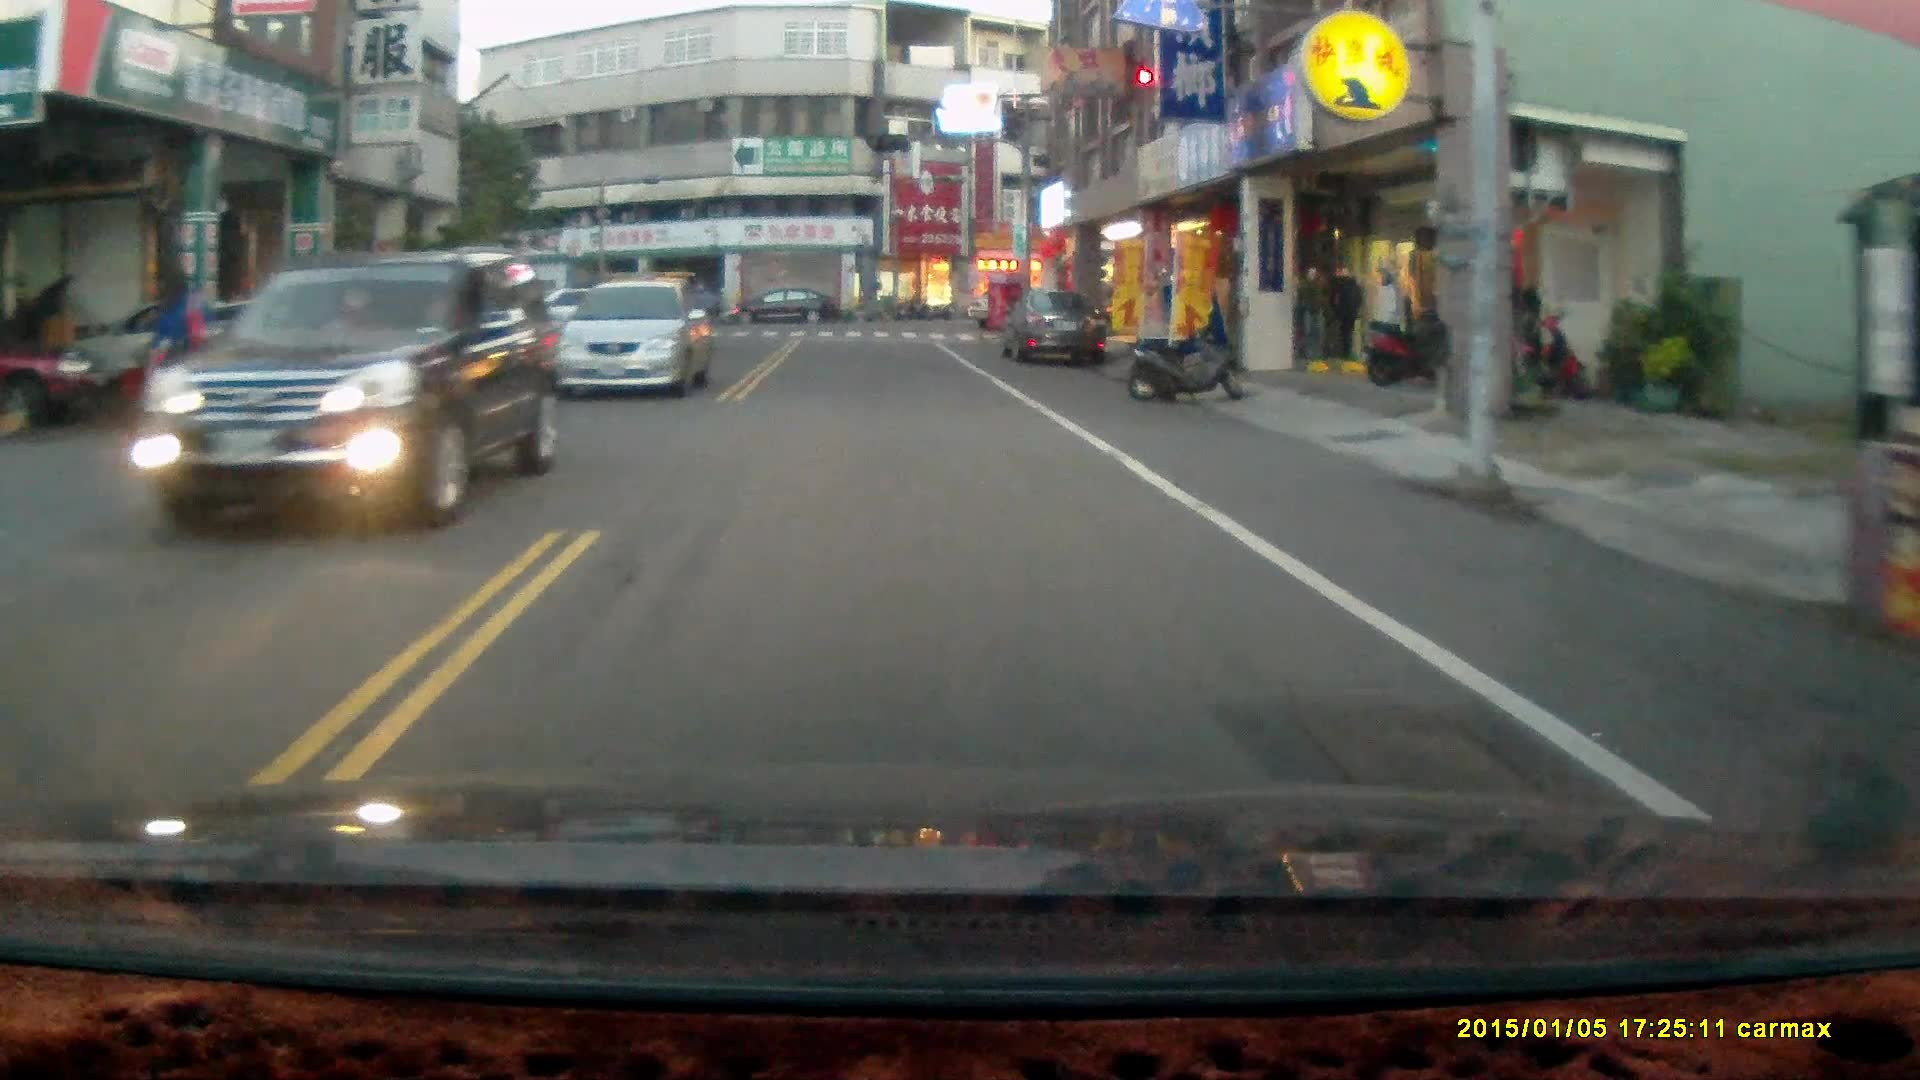pedestrian: (156, 263, 203, 415)
vehicle: (159, 247, 559, 531), (566, 279, 711, 399), (998, 286, 1109, 372), (725, 288, 843, 333)
